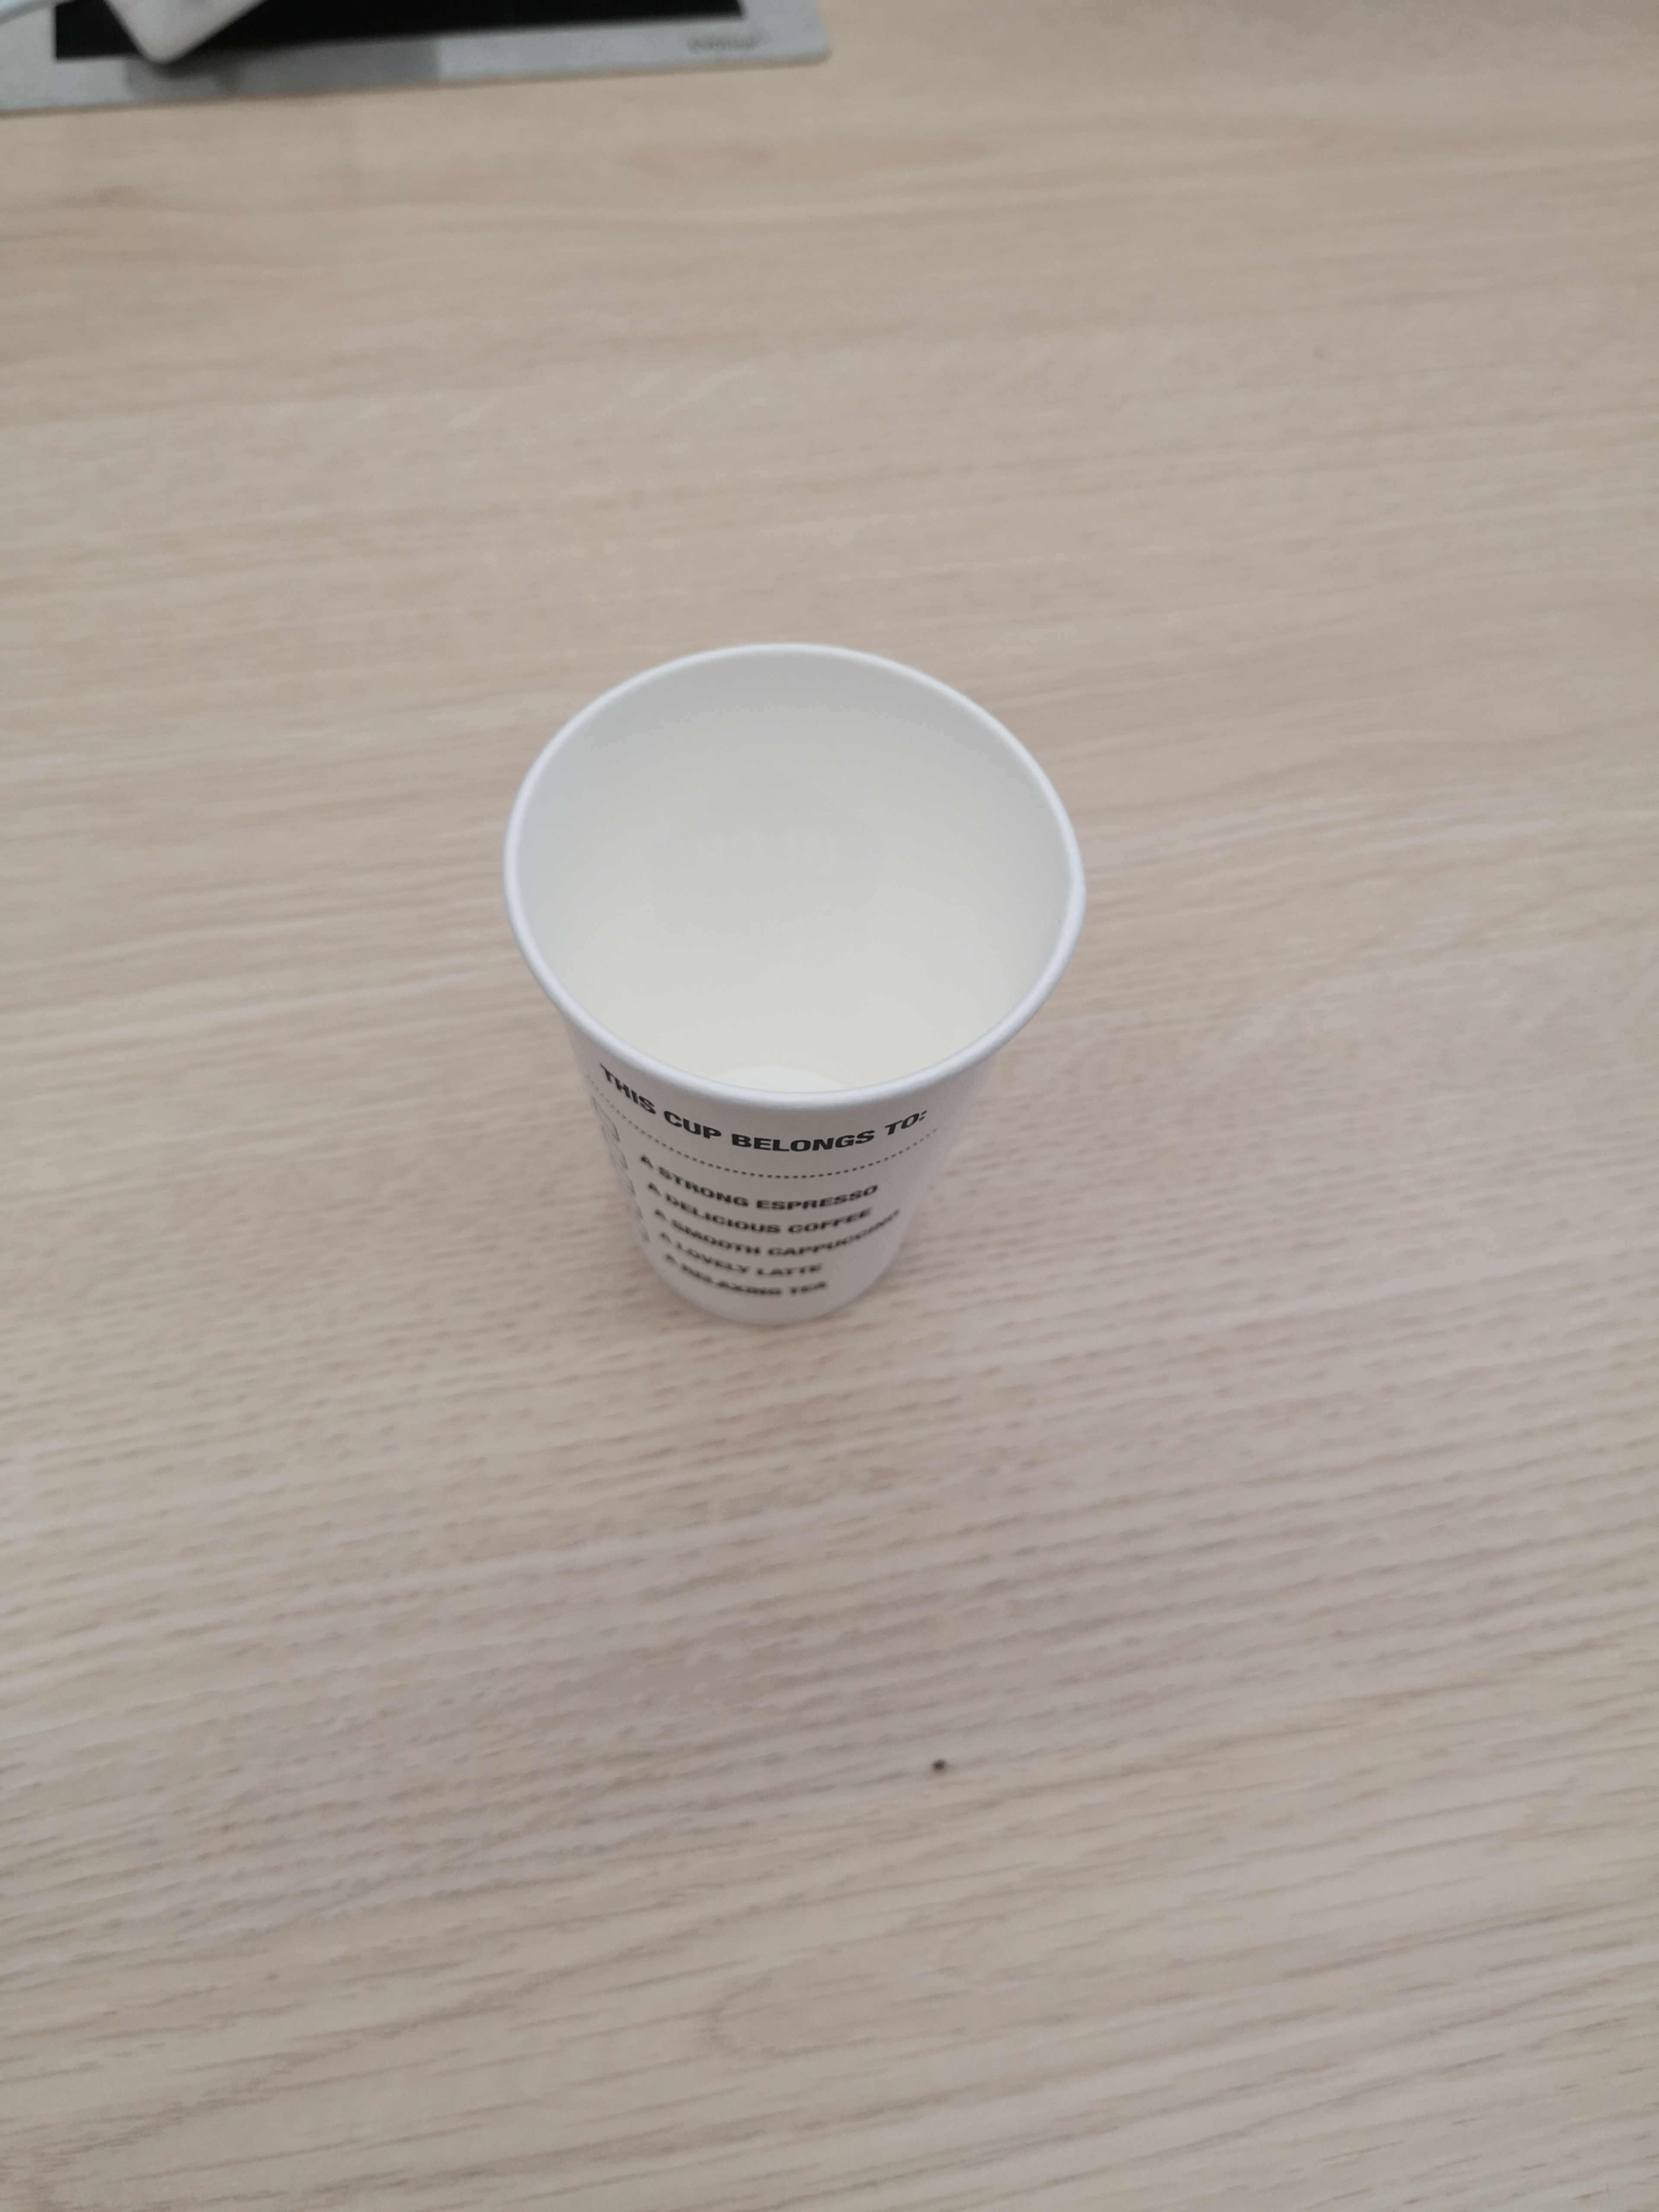cup: (462, 624, 1126, 1367)
